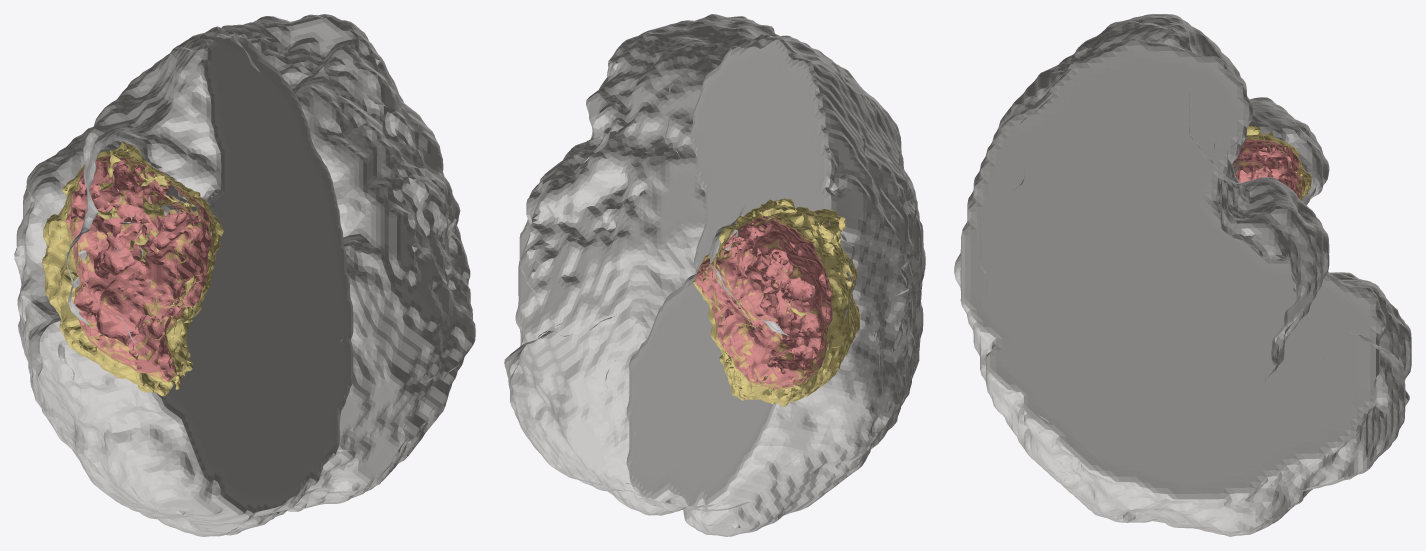
3 renders of one model, left to right at view 1: azimuth 30°, elevation 25°; view 2: azimuth 150°, elevation 25°; view 3: azimuth 270°, elevation 25°, orthographic. The views are drawn at different scales.
Visible parts, largest first — view 1: brain_left, brain_right, enhancing, edema, core; view 2: brain_left, brain_right, enhancing, edema, core; view 3: brain_right, brain_left, enhancing, edema.
Part boxes in pixels (x1,y1,x2,y2): brain_left: [14, 26, 353, 536]; brain_right: [221, 14, 475, 511]; enhancing: [66, 156, 211, 381]; edema: [42, 141, 223, 396]; core: [65, 155, 212, 383]; brain_left: [626, 33, 925, 536]; brain_right: [504, 14, 774, 515]; enhancing: [695, 216, 832, 389]; edema: [693, 198, 859, 407]; core: [695, 216, 832, 389]; brain_right: [954, 38, 1409, 536]; brain_left: [962, 14, 1411, 379]; enhancing: [1233, 139, 1298, 197]; edema: [1240, 124, 1311, 200].
Size of the model in its own units: 132 by 168 by 144.
